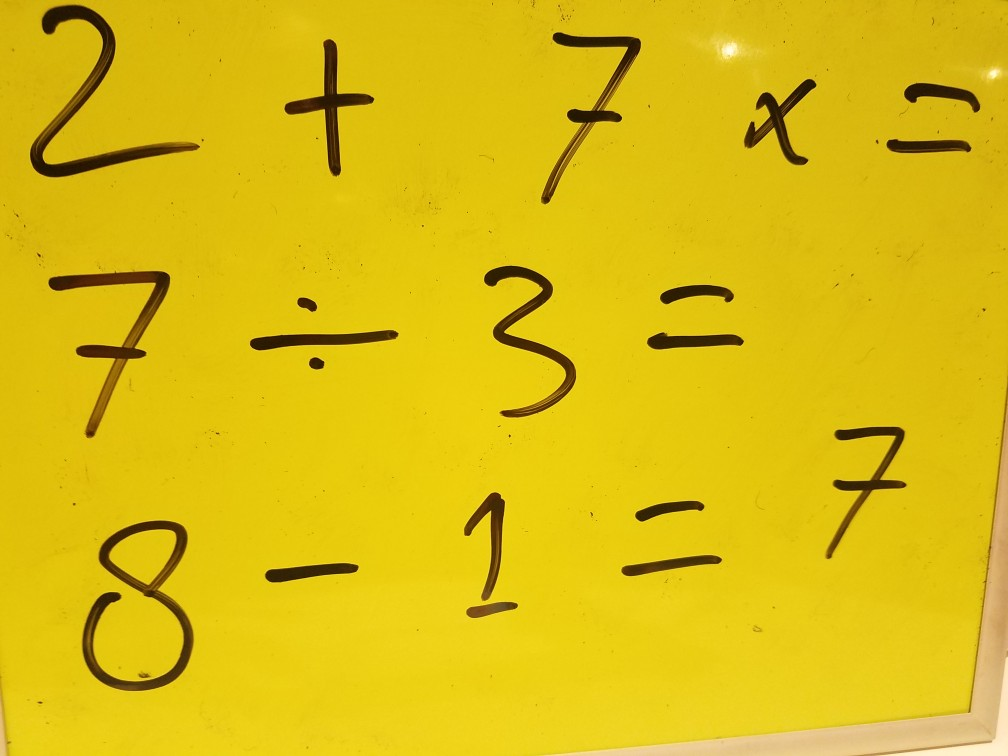+: (273, 21, 391, 186)
-: (260, 542, 373, 604)
1: (439, 481, 533, 633)
2: (21, 1, 206, 192)
3: (462, 247, 579, 433)
7: (509, 11, 663, 216), (40, 257, 174, 445), (815, 404, 916, 574)
8: (73, 506, 199, 695)
=: (610, 479, 739, 607), (640, 268, 771, 371), (874, 66, 993, 173)
div: (239, 282, 412, 387)
x: (736, 65, 821, 171)
